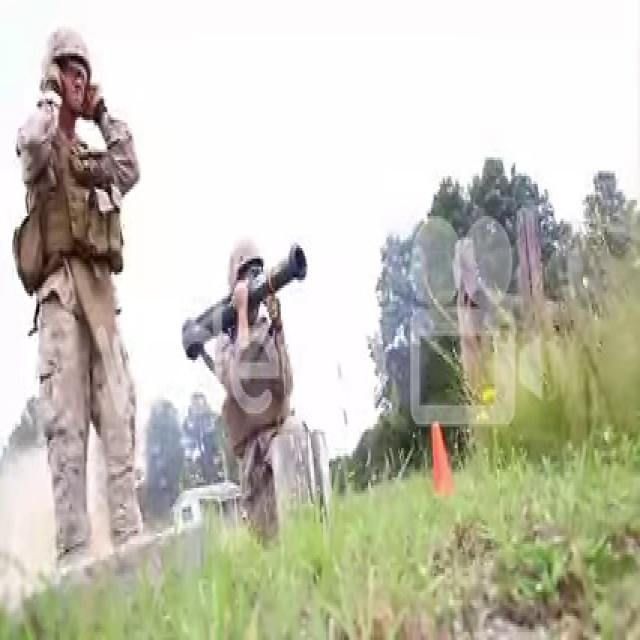bazooka: (179, 235, 311, 370)
